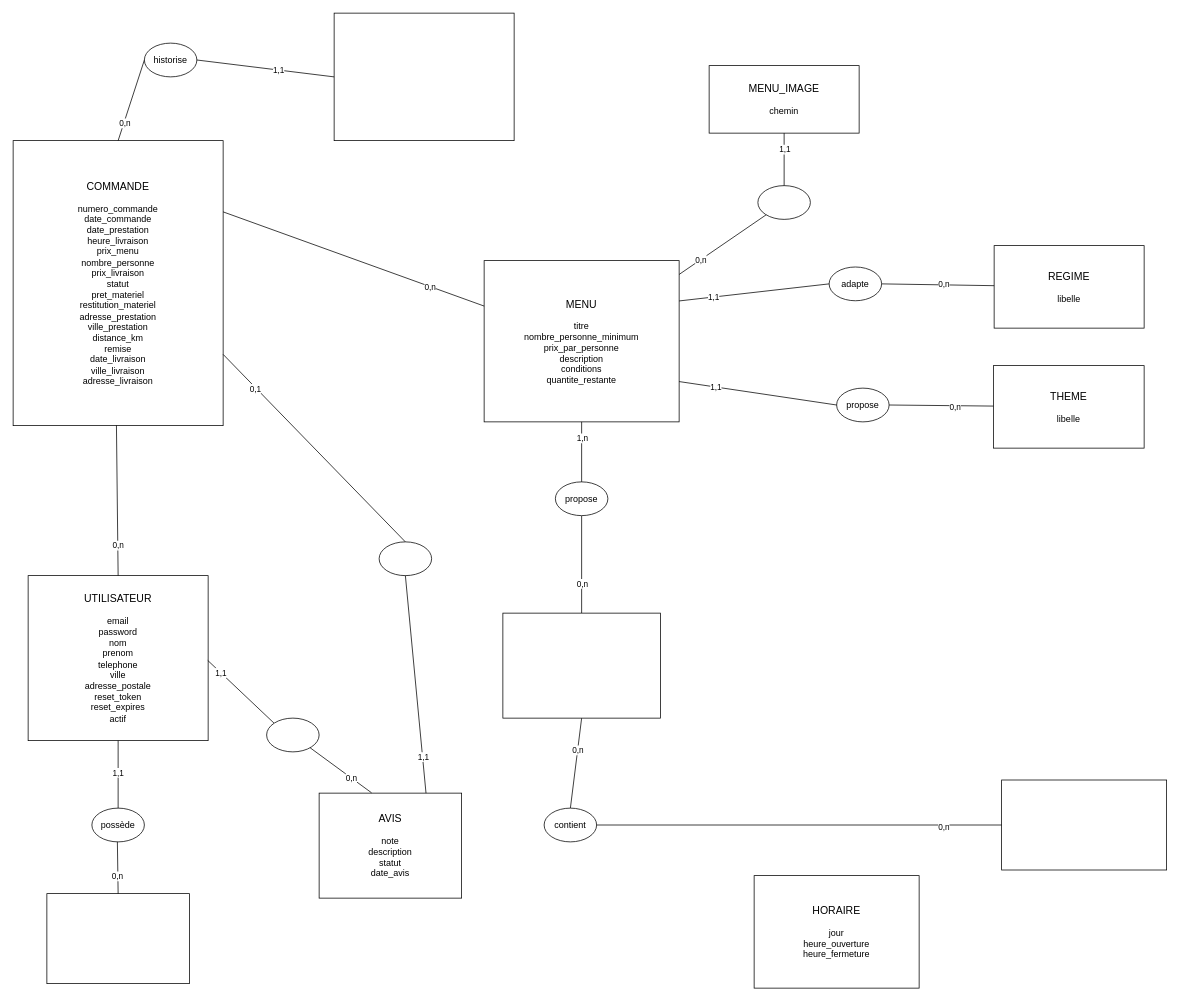
This 1180x1001 diagram has some shape labels left out. The shapes that lost their labels are listed below. From the top down, each one's box as (x1, y1, x2, y2) in pixels, then its label:
(333, 12, 514, 141): COMMANDE_SUIVI statut date_modif mode_contact motif
(757, 185, 810, 219): illustre
(378, 541, 432, 576): reçoit
(502, 612, 660, 718): PLAT titre_plat photo categorie
(266, 717, 319, 752): publie
(1001, 779, 1167, 870): ALLERGENE libelle
(46, 893, 189, 984): ROLE libelle
